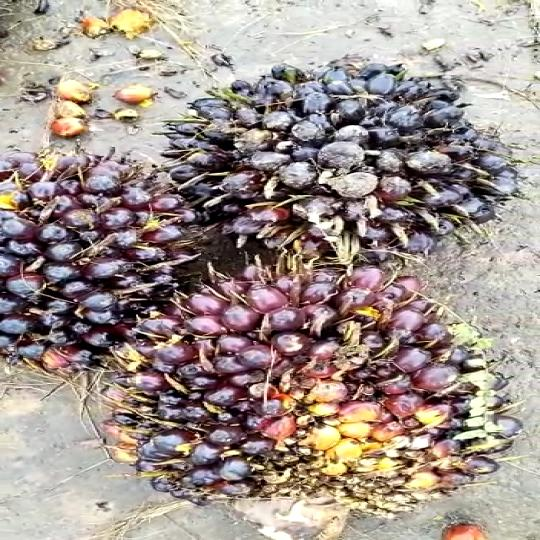mentah: (119, 249, 498, 508), (142, 43, 530, 284), (0, 147, 234, 383)
